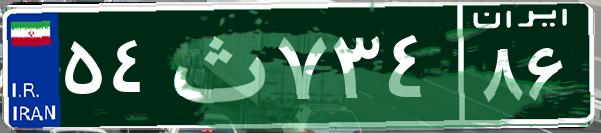3: (330, 28, 385, 110)
4: (385, 28, 445, 110), (110, 28, 158, 105)
5: (57, 26, 110, 107)
6: (525, 38, 570, 115)
7: (273, 28, 330, 110)
8: (475, 38, 525, 113)
ث: (158, 15, 273, 115)
